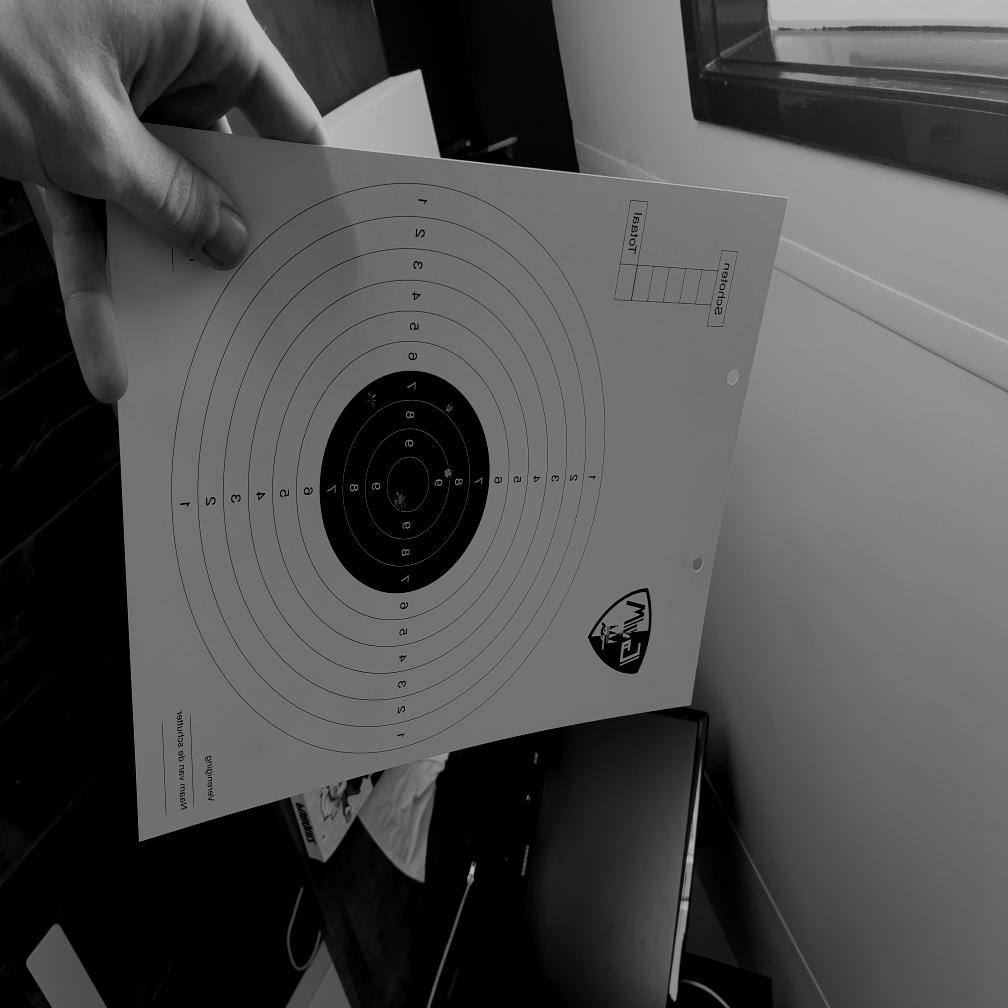10: (392, 490, 407, 511)
7: (362, 388, 377, 410)
8: (442, 401, 455, 416)
9: (444, 464, 455, 480)
Target: (171, 182, 606, 756)
black_contour: (319, 370, 488, 593)
